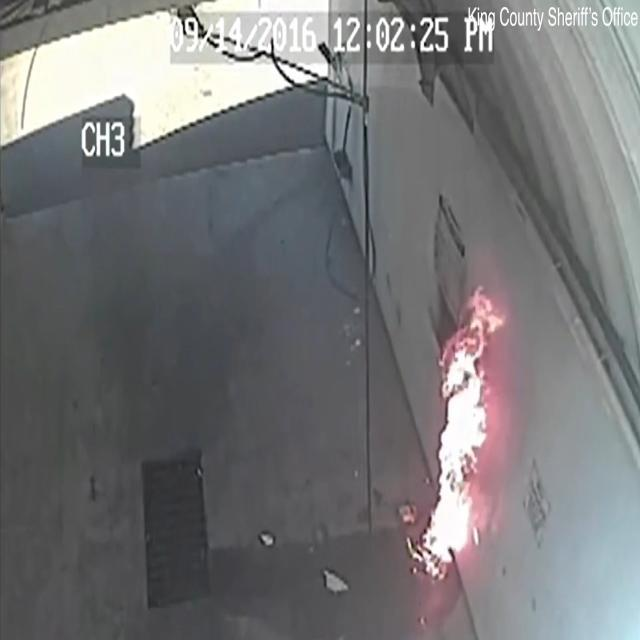Fire: (388, 283, 546, 633)
